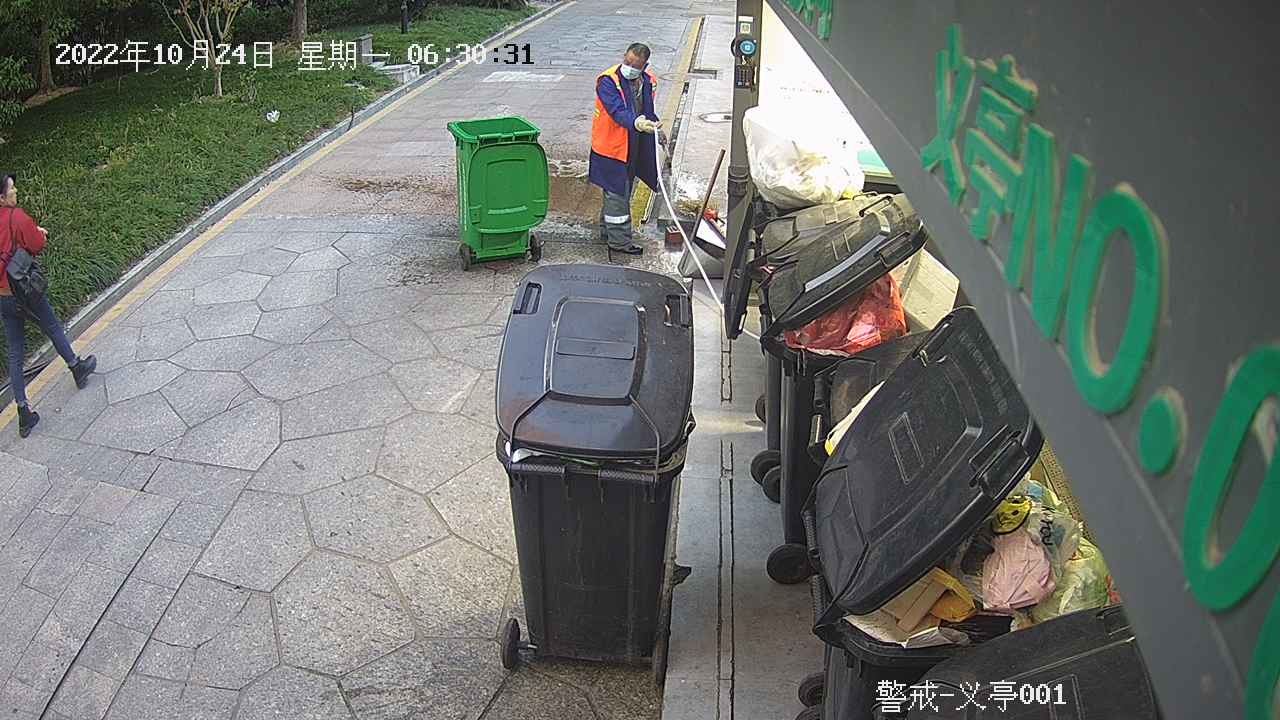person: (1, 166, 102, 440)
worker: (584, 39, 670, 260)
